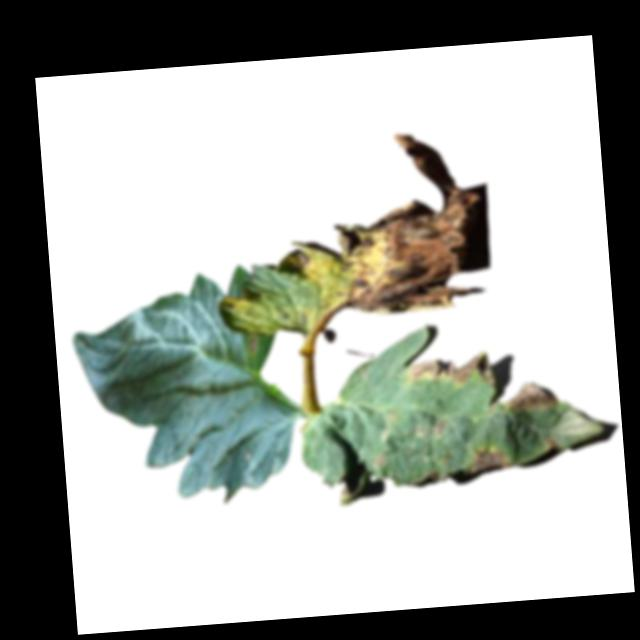Early_blight: (322, 128, 487, 319), (404, 348, 496, 391), (505, 381, 556, 414), (466, 445, 513, 477), (286, 246, 310, 273), (372, 452, 391, 473), (541, 431, 560, 450), (247, 337, 258, 358), (437, 419, 447, 433)
